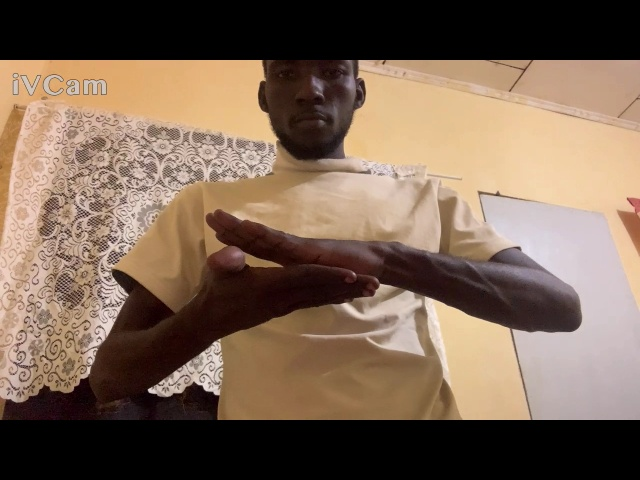pardon: (189, 208, 435, 342)
